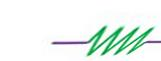resistor: (81, 18, 155, 57)
